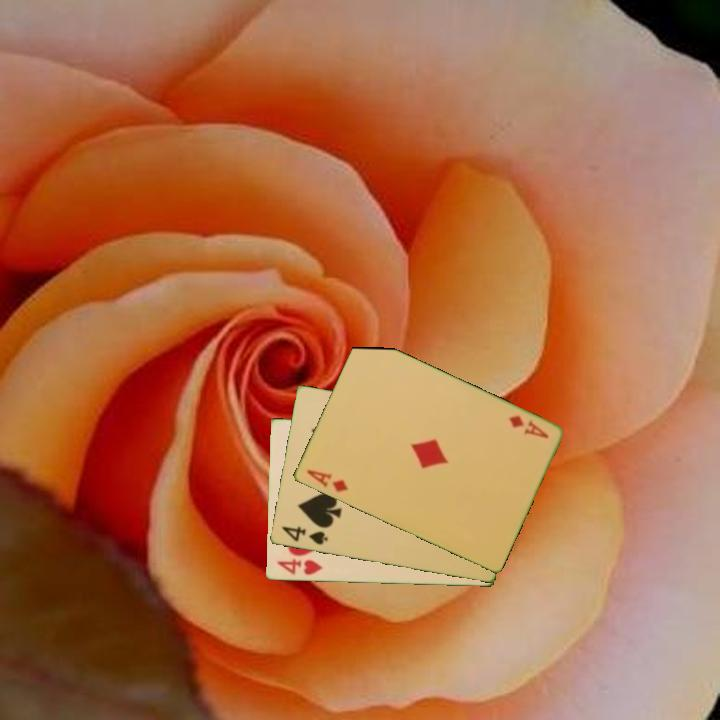4h: (273, 555, 325, 578)
4s: (278, 523, 330, 548)
Ad: (303, 466, 351, 495), (505, 412, 551, 441)
